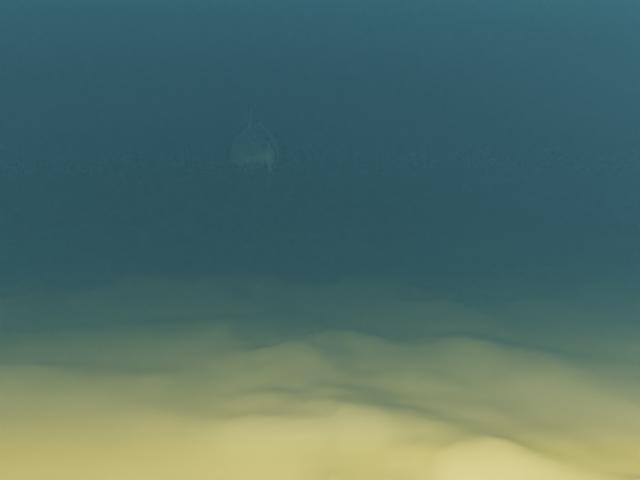Carribean Shark.001: (185, 102, 319, 184)
